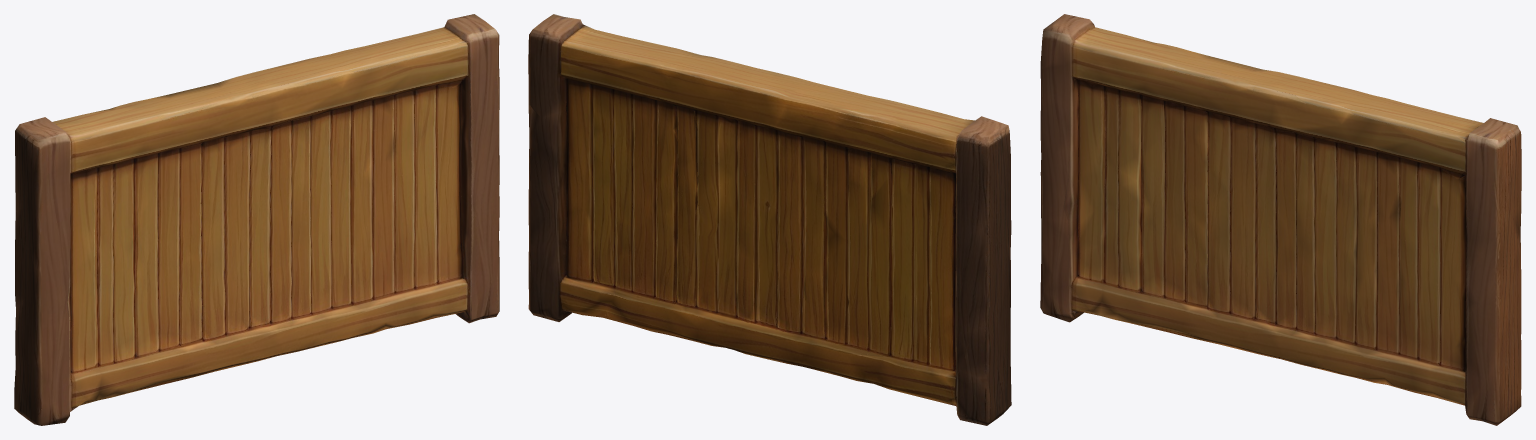
The model's file is SM_Env_KitchenDivider.fbx.
The picture shows the model from 3 angles, left to right: view 1: azimuth 30°, elevation 25°; view 2: azimuth 150°, elevation 25°; view 3: azimuth 330°, elevation 25°; orthographic projection.
Visible parts, largest first — view 1: SM_Env_KitchenDivider; view 2: SM_Env_KitchenDivider; view 3: SM_Env_KitchenDivider.
Boxes of the visible parts, x1,y1,x2,y2 form: SM_Env_KitchenDivider: (14,14,499,425); SM_Env_KitchenDivider: (528,14,1011,425); SM_Env_KitchenDivider: (1040,14,1521,425).
Size of the model in its own units: 2 by 1.2 by 0.2.
